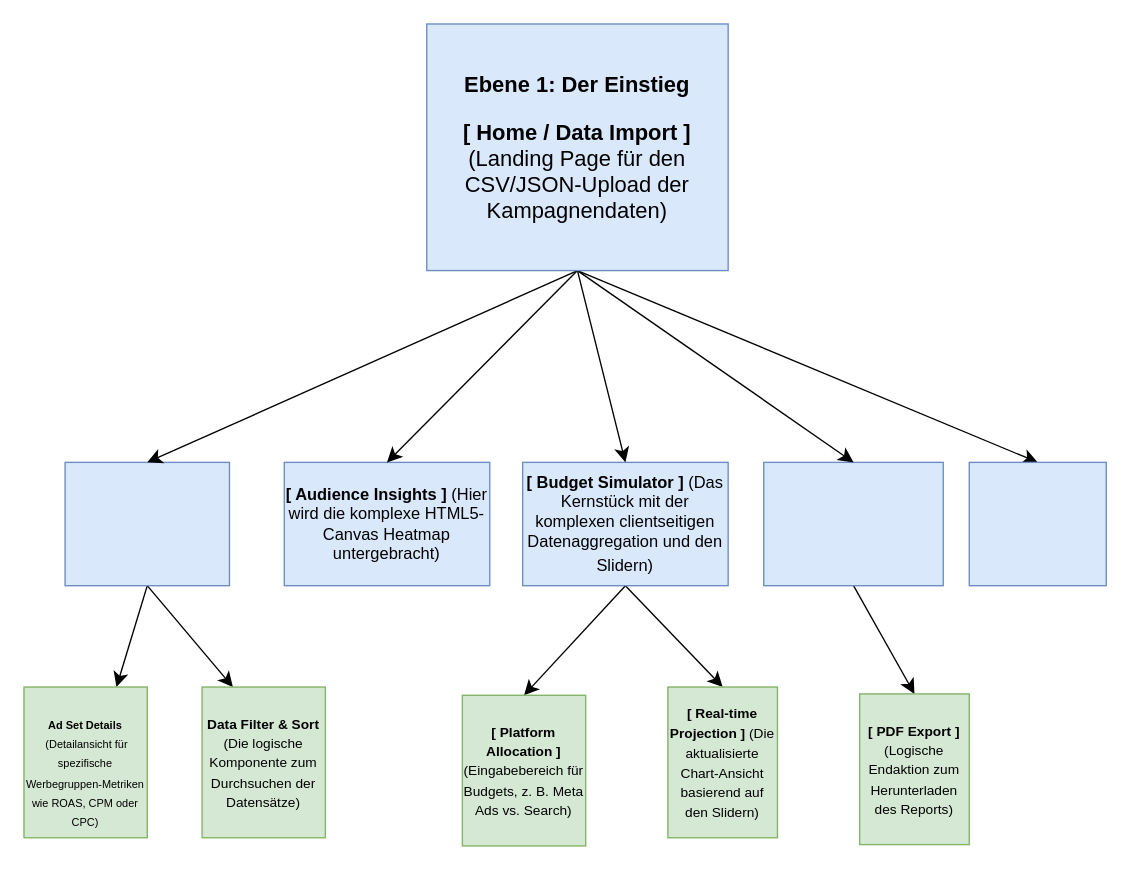
This 1130x870 diagram has some shape labels left out. The centre of each missing label's shape, as x and y in pixels:
"[ Campaign Dashboard ] (Die geforderte Listenansicht der Kampagnen)" goes at [146,523].
"[ Custom Metric-Builder ] (Der interaktive Chart-Generator)" goes at [852,523].
"Support & Impressum" goes at [1037,523].
